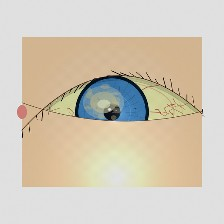corneal_ulcer: (82, 85, 125, 120)
